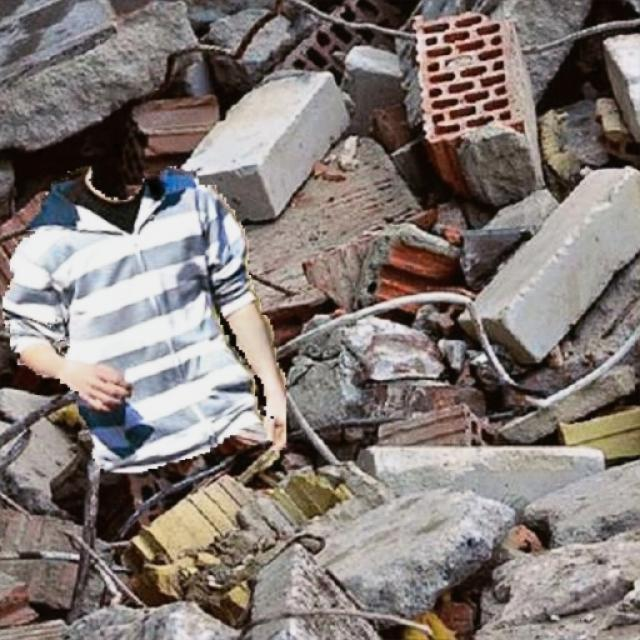Person in Rubble: (2, 166, 286, 472)
